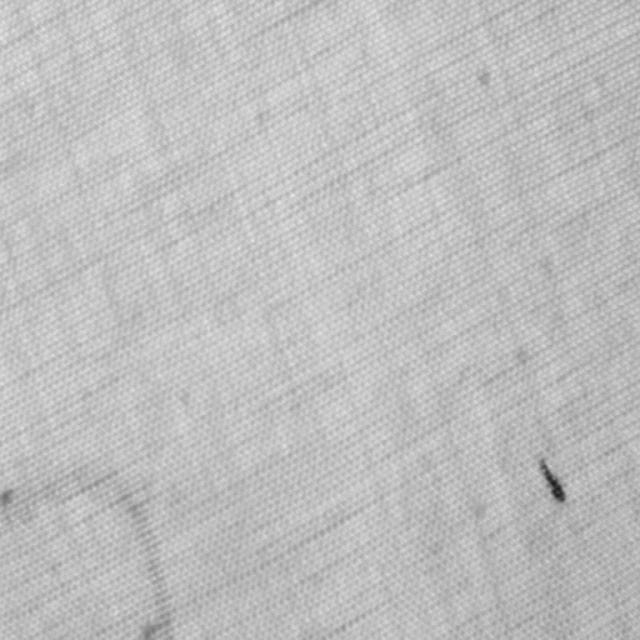oil spot: (0, 452, 182, 638), (532, 448, 568, 518)
